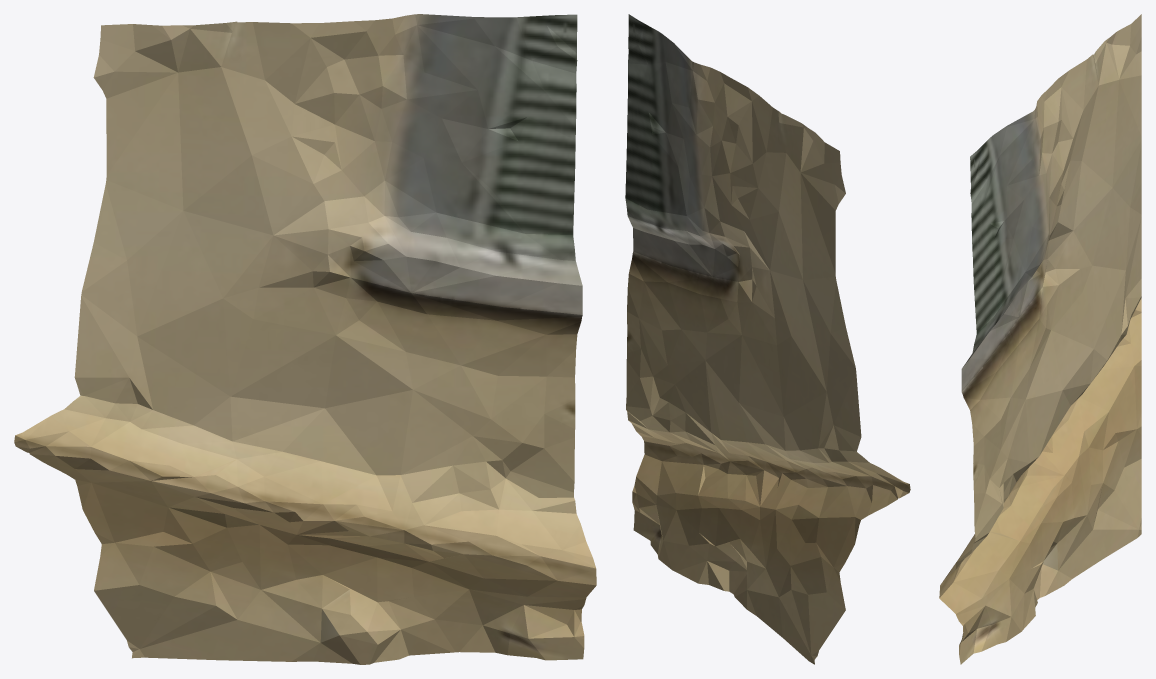
3 views of the same model, side by side, from view 1: azimuth 30°, elevation 25°; view 2: azimuth 150°, elevation 25°; view 3: azimuth 270°, elevation 25° (orthographic). The views are drawn at different scales.
Bounding box in the file's own units: 1.25 × 1.67 × 0.604.
Materials: 2 (2 with a texture image).
